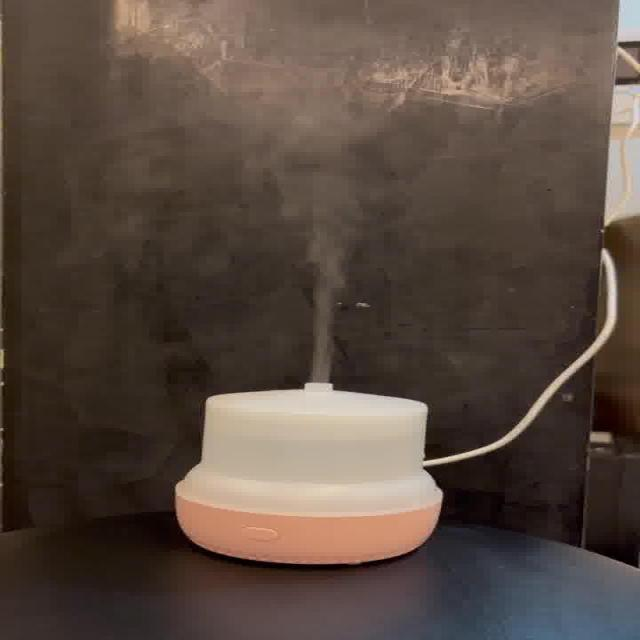fire: (236, 96, 394, 380)
